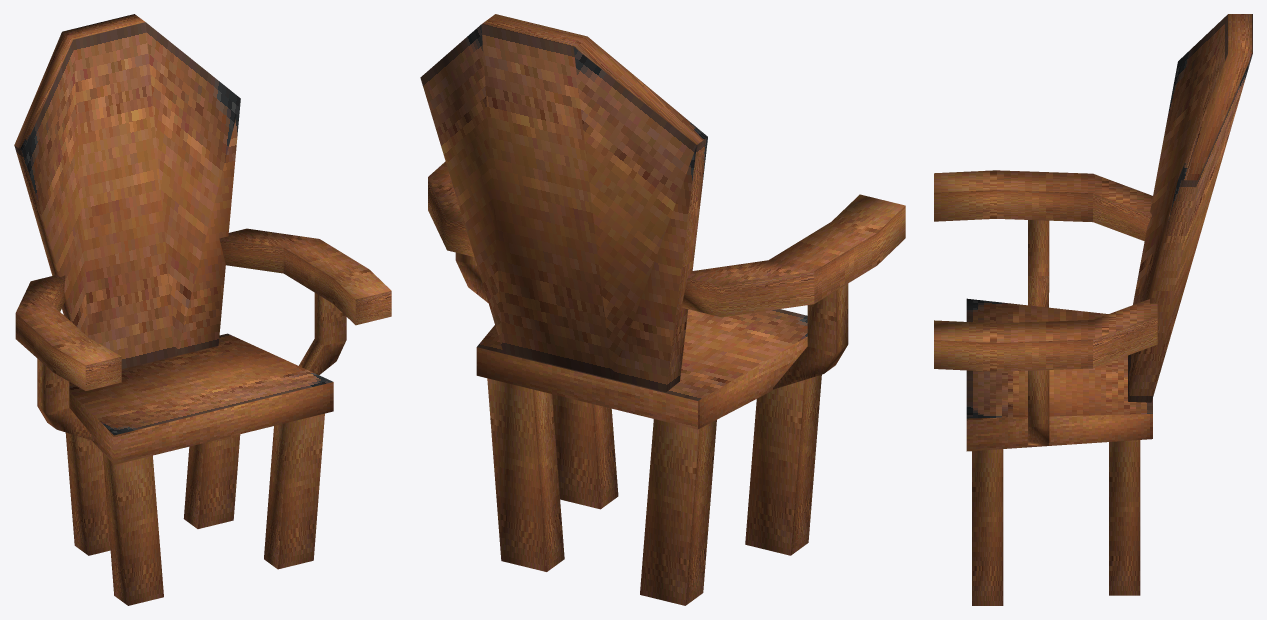
File: CHAIR3_ACTORDEF.fbx
The picture shows the model from 3 angles, left to right: view 1: azimuth 30°, elevation 25°; view 2: azimuth 150°, elevation 25°; view 3: azimuth 270°, elevation 25°; orthographic projection. The views are drawn at different scales.
Visible parts, largest first — view 1: U3DMesh; view 2: U3DMesh; view 3: U3DMesh.
Boxes of the visible parts, left/top/right/bottom form: U3DMesh: left=14, top=14, right=391, bottom=605; U3DMesh: left=420, top=14, right=905, bottom=605; U3DMesh: left=934, top=14, right=1252, bottom=605.
Bounding box in the file's own units: 5.27 × 7.45 × 4.11.
